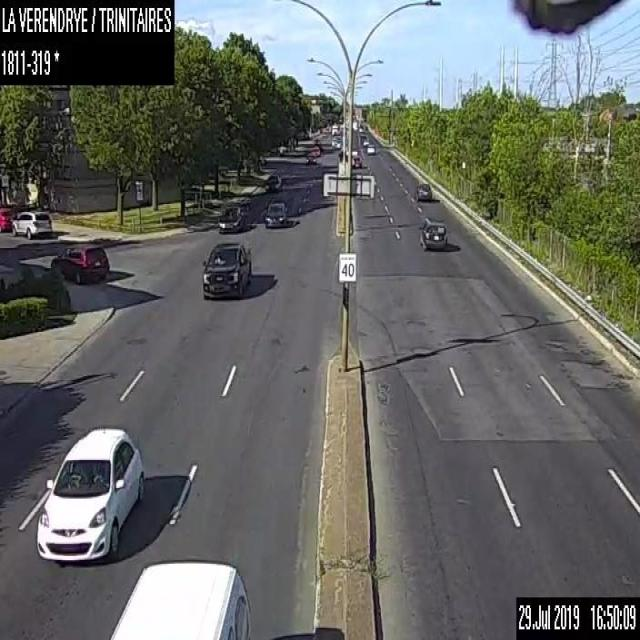vehicle: (34, 426, 146, 558), (108, 558, 254, 638), (201, 241, 252, 299), (50, 241, 109, 283), (11, 210, 51, 238), (418, 215, 446, 248), (216, 208, 248, 232), (264, 199, 287, 228), (0, 205, 15, 231), (265, 170, 282, 190), (414, 183, 431, 200), (305, 152, 317, 164), (331, 136, 340, 149), (310, 145, 320, 156), (352, 156, 361, 167), (331, 123, 338, 134), (366, 144, 374, 153), (359, 130, 366, 140), (312, 137, 320, 145), (362, 138, 369, 147)
